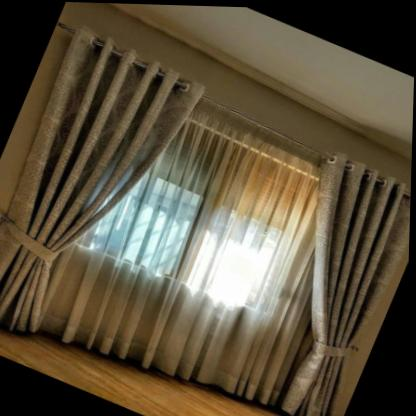Curtains: (0, 27, 412, 416)
Wooden floor: (0, 328, 290, 416)
